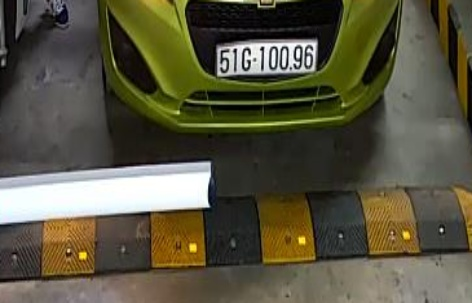plate: (211, 34, 319, 80)
